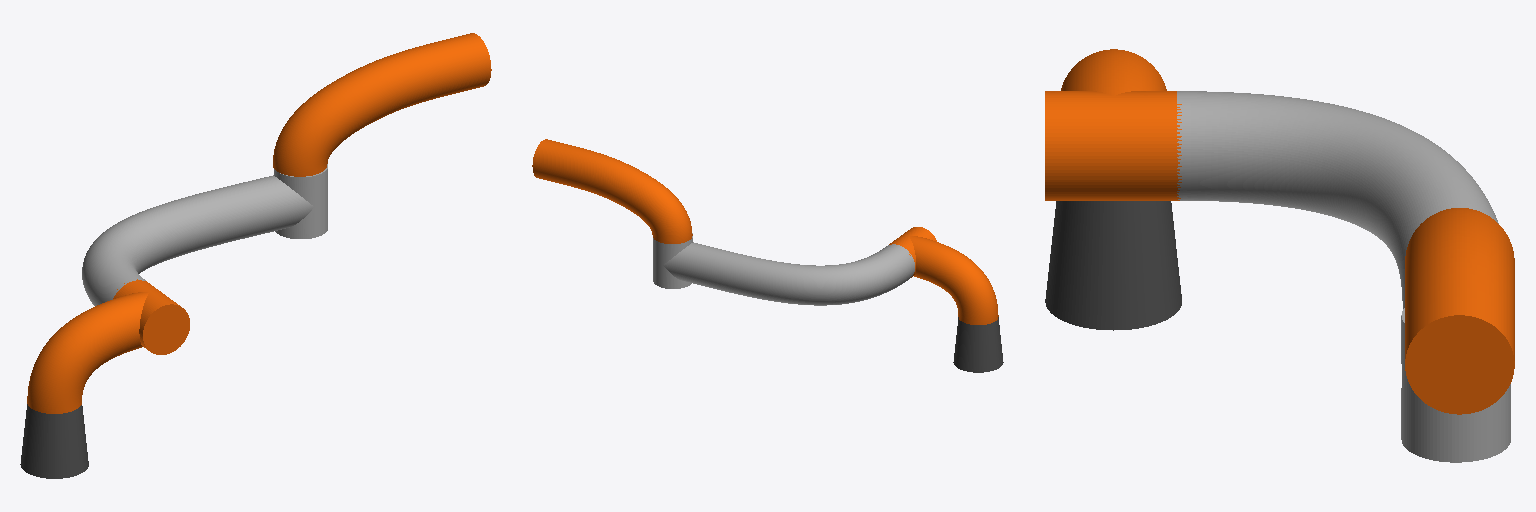
The robot description file, URDF, robot "custom_3r":
<?xml version="1.0" encoding="UTF-8"?>
<robot name="custom_3r">
  
  <!--
  Initial assembly generated from the supplied STL meshes and joint data.
  
  Assumption for this first version:
  - Each STL is expressed in its corresponding link frame.
  - Therefore visual/collision mesh origins are xyz="0 0 0", rpy="0 0 0".
  - The joint origins below are used exactly as supplied and are relative
  to their parent link frames, as required by URDF.
  
  Units:
  - STL geometry appears to be in metres.
  - URDF distances are metres and angles are radians.
  -->
  
  <material name="color_1">
  <color rgba="0.35 0.35 0.35 1.0"/>
  </material>
  <material name="color_2">
  <color rgba="0.95 0.45 0.08 1.0"/>
  </material>
  <material name="color_1">
  <color rgba="0.20 0.22 0.23 1.0"/>
  </material>
  
  <material name="color_2">
  <color rgba="0.05 0.42 0.43 1.0"/>
  </material>
  
  <material name="gray_white">
  <color rgba="0.7 0.7 0.7 1.0"/>
  </material>
  
  <link name="base_link">
  <visual>
  <origin xyz="0 0 0" rpy="0 0 0"/>
  <geometry>
  <mesh filename="package://custom_3r_description/meshes/base_link.stl"/>
  </geometry>
  <material name="color_1"/>
  </visual>
  <collision>
  <origin xyz="0 0 0" rpy="0 0 0"/>
  <geometry>
  <mesh filename="package://custom_3r_description/meshes/base_link.stl"/>
  </geometry>
  </collision>
  </link>
  
  <link name="link_1_800">
  <visual>
  <origin xyz="0 0 0" rpy="0 0 0"/>
  <geometry>
  <mesh filename="package://custom_3r_description/meshes/link_1_800.stl"/>
  </geometry>
  <material name="color_2"/>
  </visual>
  <collision>
  <origin xyz="0 0 0" rpy="0 0 0"/>
  <geometry>
  <mesh filename="package://custom_3r_description/meshes/link_1_800.stl"/>
  </geometry>
  </collision>
  </link>
  
  <joint name="joint_1" type="revolute">
  <parent link="base_link"/>
  <child link="link_1_800"/>
  <origin xyz="0 0 0.5" rpy="0 0 0"/>
  <axis xyz="0 0 1"/>
  <limit lower="-3.141592653589793" upper="3.141592653589793" effort="100" velocity="2.0"/>
  </joint>
  
  <link name="link_2">
  <visual>
  <origin xyz="0 0.25 0" rpy="0 0 -1.5707"/>
  <geometry>
  <mesh filename="package://custom_3r_description/meshes/link_2.stl" scale="1 1 1"/>
  </geometry>
  <material name="gray_white"/>
  </visual>
  <collision>
  <origin xyz="0 0 0" rpy="0 0 0"/>
  <geometry>
  <mesh filename="package://custom_3r_description/meshes/link_2.stl"/>
  </geometry>
  </collision>
  </link>
  
  <joint name="joint_2" type="revolute">
  <parent link="link_1_800"/>
  <child link="link_2"/>
  <origin xyz="0.8 0 0.5" rpy="0 0 0"/>
  <axis xyz="0 1 0"/>
  <limit lower="-3.141592653589793" upper="3.141592653589793" effort="100" velocity="2.0"/>
  </joint>
  
  <link name="link_3_d3">
  <visual>
  <origin xyz="0 0 0.25" rpy="0 0 0"/>
  <geometry>
  <mesh filename="package://custom_3r_description/meshes/link_3_d3.stl" scale="1 1 1"/>
  </geometry>
  <material name="color_2"/>
  </visual>
  <collision>
  <origin xyz="0 0 0" rpy="0 0 0"/>
  <geometry>
  <mesh filename="package://custom_3r_description/meshes/link_3_d3.stl"/>
  </geometry>
  </collision>
  </link>
  
  <joint name="joint_3" type="revolute">
  <parent link="link_2"/>
  <child link="link_3_d3"/>
  <origin xyz="2 1.25 0.0" rpy="0 0 0"/>
  <axis xyz="0 0 1"/>
  <limit lower="-3.141592653589793" upper="3.141592653589793" effort="100" velocity="2.0"/>
  </joint>
  
  <!-- Convenient fixed end-effector frame at link_3 origin for now.
  Move this origin later if the actual TCP is elsewhere. -->
  <link name="tool0"/>
  <joint name="tool0_fixed_joint" type="fixed">
  <parent link="link_3_d3"/>
  <child link="tool0"/>
  <origin xyz="1.5 0 0.75" rpy="0 0 0"/>
  </joint>
  
</robot>

--- Render facts (derived) ---
3 views of the same robot in one strip: view 1: azimuth 30°, elevation 25°; view 2: azimuth 150°, elevation 25°; view 3: azimuth 270°, elevation 25° (orthographic).
Model custom_3r with 5 links and 4 joints (3 revolute, 1 fixed), rooted at base_link, posed all joints at 0.
Links seen in each view (by area): view 1: link_2, link_3_d3, link_1_800, base_link; view 2: link_2, link_3_d3, link_1_800, base_link; view 3: link_2, link_3_d3, link_1_800, base_link.
Boxes of the visible links, left/top/right/bottom form: link_2: left=82, top=164, right=327, bottom=305; link_3_d3: left=273, top=33, right=491, bottom=176; link_1_800: left=27, top=279, right=189, bottom=413; base_link: left=20, top=404, right=88, bottom=478; link_2: left=653, top=233, right=914, bottom=305; link_3_d3: left=532, top=139, right=692, bottom=243; link_1_800: left=889, top=227, right=998, bottom=324; base_link: left=953, top=317, right=1003, bottom=372; link_2: left=1177, top=91, right=1510, bottom=462; link_3_d3: left=1405, top=208, right=1514, bottom=414; link_1_800: left=1045, top=49, right=1181, bottom=200; base_link: left=1045, top=201, right=1181, bottom=330.
Bounding box of the posed robot: 4.55 × 1.71 × 1.95 m (x, y, z).
4 mesh visuals loaded from 4 distinct referenced files (4 binary STL).
